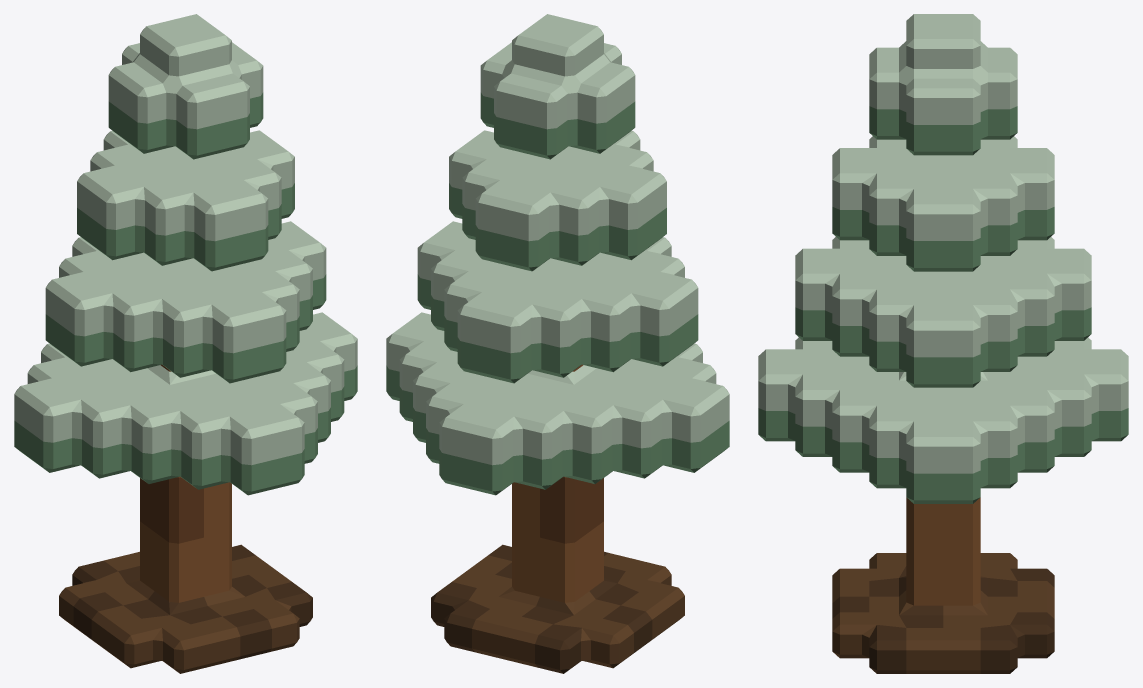
Rendered from prop_sapling_4_voxel.fbx.
3 renders of one model, left to right at view 1: azimuth 30°, elevation 25°; view 2: azimuth 150°, elevation 25°; view 3: azimuth 270°, elevation 25°, orthographic.
Visible parts, largest first — view 1: prop_sapling_4_voxel; view 2: prop_sapling_4_voxel; view 3: prop_sapling_4_voxel.
Part boxes in pixels (x1,y1,x2,y2): prop_sapling_4_voxel: (14, 14, 357, 673); prop_sapling_4_voxel: (386, 14, 729, 673); prop_sapling_4_voxel: (758, 14, 1128, 673).
Size of the model in its own units: 0.8 by 1.44 by 0.8.
